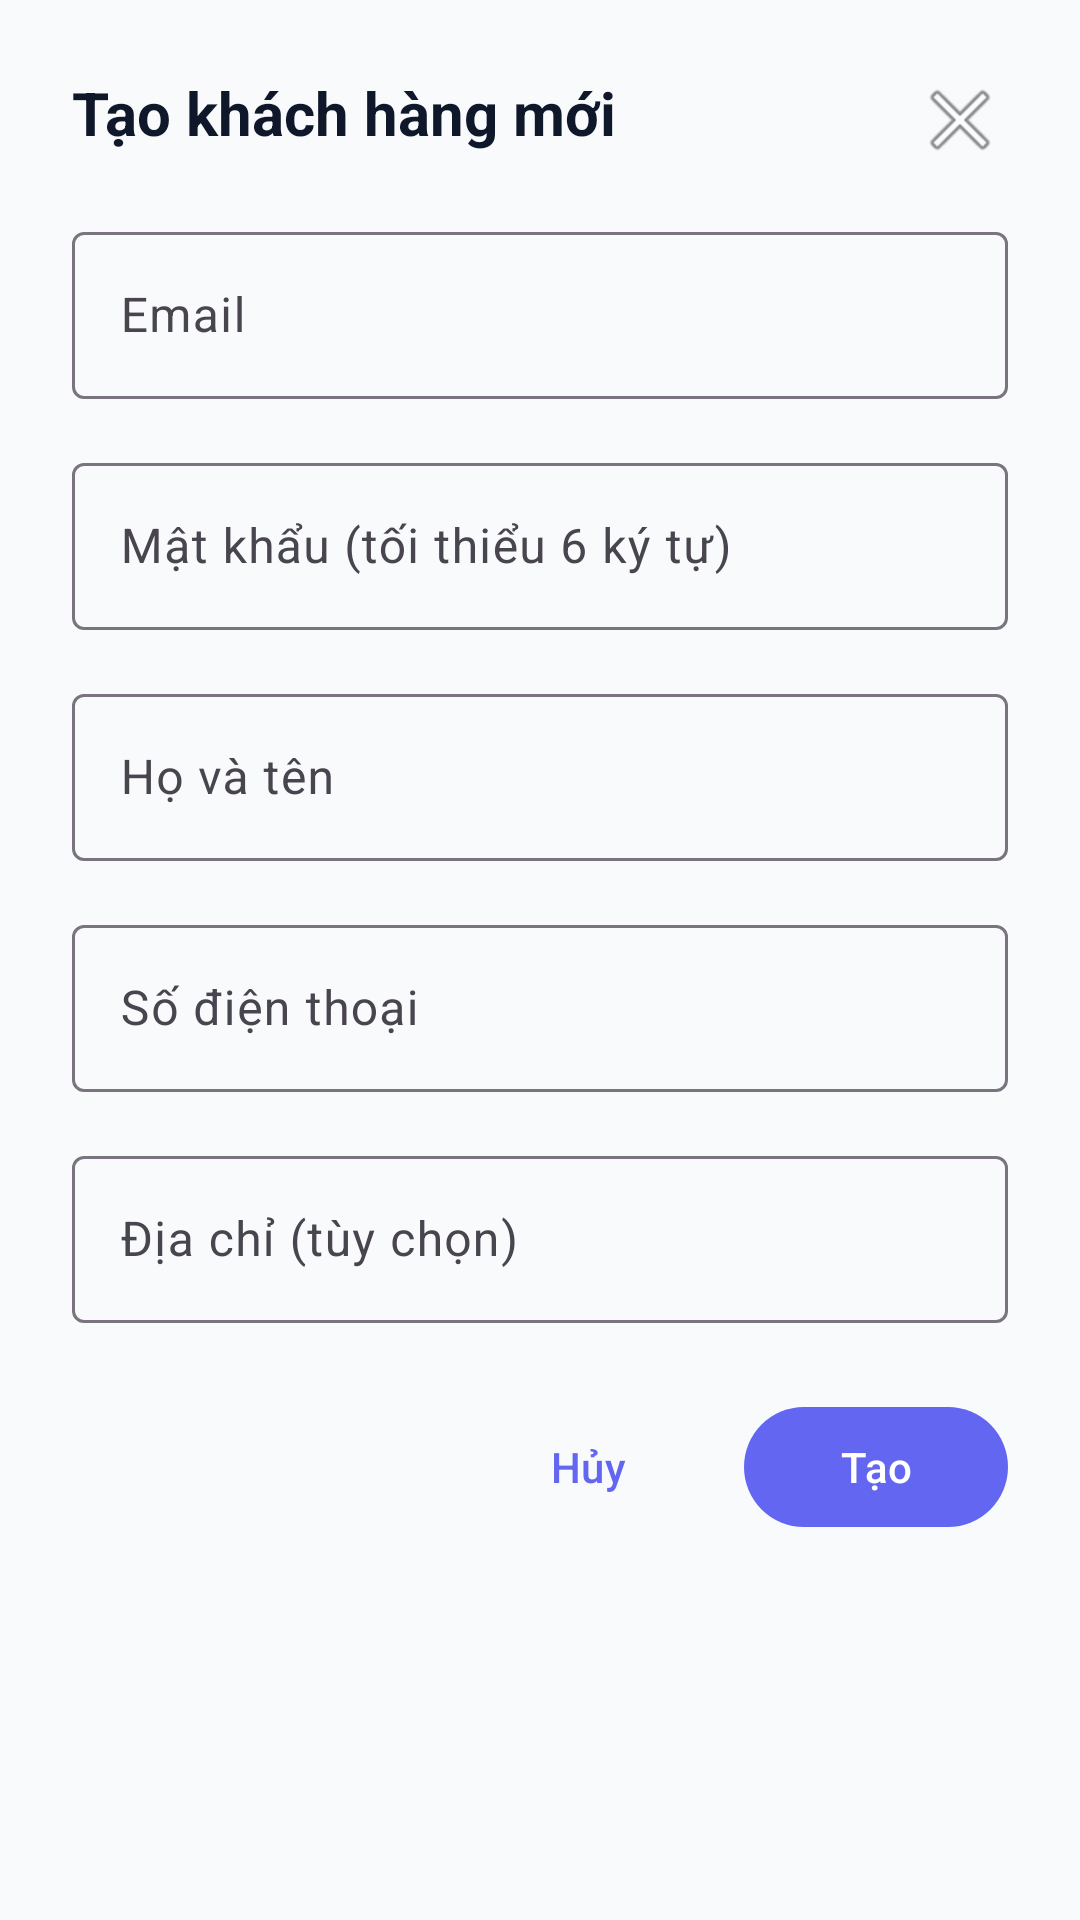

Where icons sit on this 1080w x 1920h app screen, as (x1, y1, x2, y2):
Đóng: (930, 90, 990, 150)
